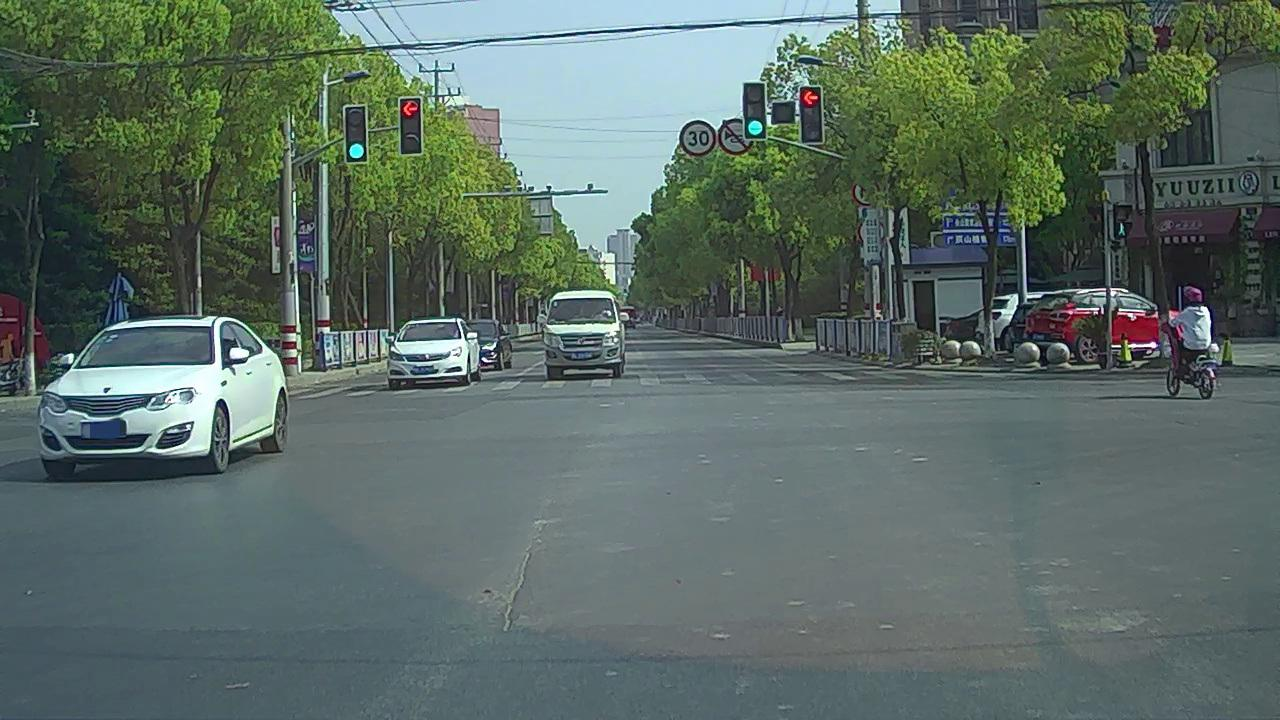traffic_light: (401, 98, 422, 155), (802, 88, 823, 145), (345, 106, 365, 163), (746, 83, 765, 141)
